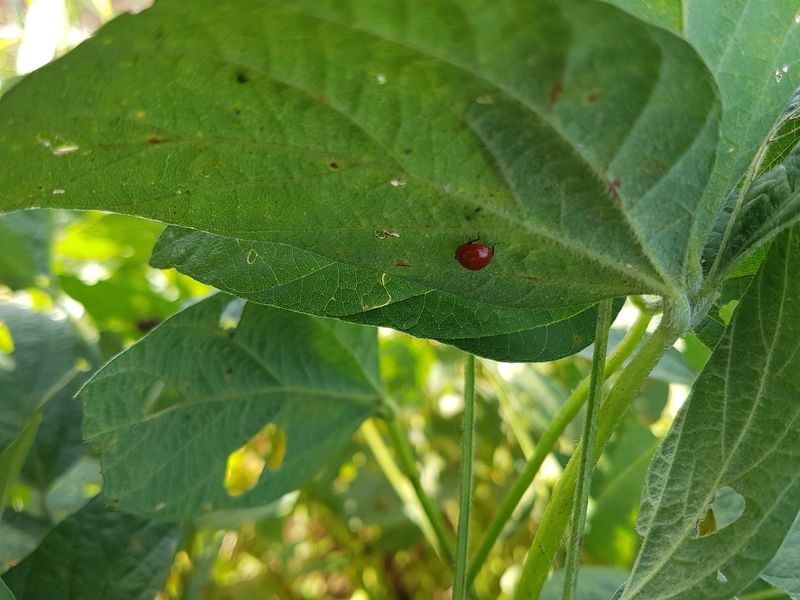Coccinellidae: (437, 224, 512, 285)
